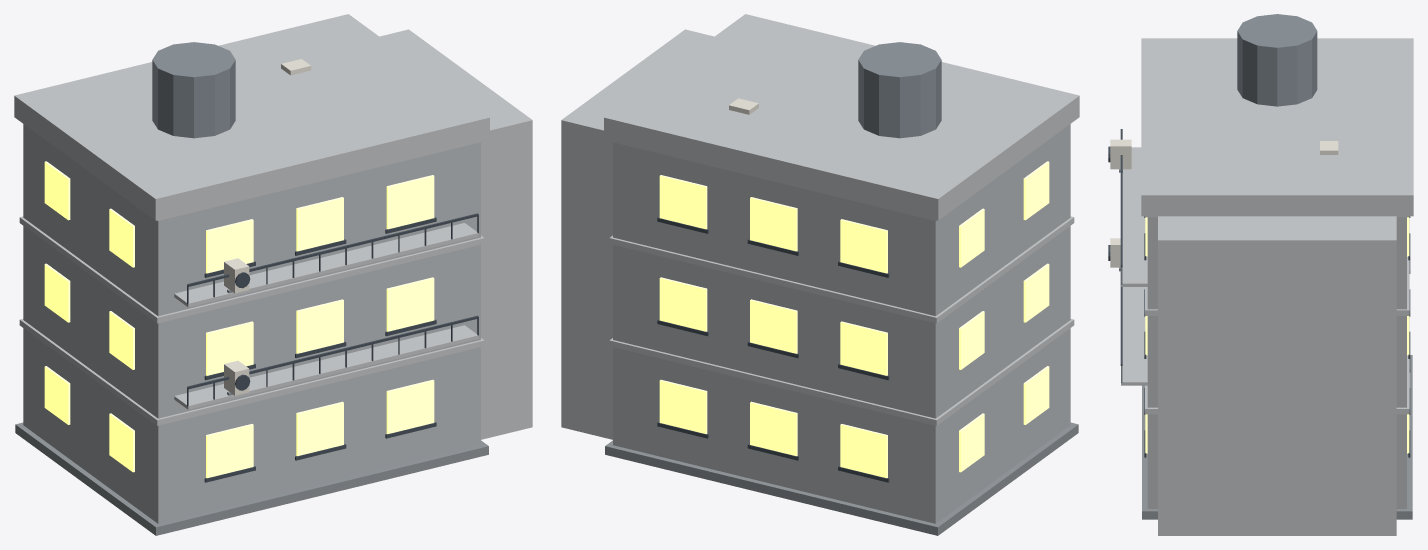
Rendered from res_danchi_3f.glb.
3 views of the same model, side by side, from view 1: azimuth 30°, elevation 25°; view 2: azimuth 150°, elevation 25°; view 3: azimuth 270°, elevation 25° (orthographic). The views are drawn at different scales.
Visible parts, largest first — view 1: body.048, roof_parapet.001, stair_core.001, water_tank.017, base.049, balcony.002, balcony.003, slab.004, slab.003, win.014, win.011, win.017 (+16 smaller); view 2: body.048, roof_parapet.001, stair_core.001, water_tank.017, base.049, slab.004, slab.003, win_back.076, win_back.073, win_back.079, win_back.078, win_back.072 (+10 smaller); view 3: stair_core.001, roof_parapet.001, water_tank.017, body.048, balcony.003, balcony.002, base.049, ac_body.060, slab.003, slab.004, rail.003.
Part boxes in pixels (<box>): body.048: <box>23,124,480,523</box>; roof_parapet.001: <box>14,14,489,220</box>; stair_core.001: <box>379,29,532,439</box>; water_tank.017: <box>152,42,235,138</box>; base.049: <box>15,422,488,535</box>; balcony.002: <box>174,325,478,409</box>; balcony.003: <box>174,223,478,307</box>; slab.004: <box>19,216,484,323</box>; slab.003: <box>19,319,484,425</box>; win.014: <box>386,277,434,331</box>; win.011: <box>386,379,434,433</box>; win.017: <box>386,175,434,229</box>; body.048: <box>613,124,1070,523</box>; roof_parapet.001: <box>604,14,1079,220</box>; stair_core.001: <box>561,29,714,439</box>; water_tank.017: <box>858,42,941,138</box>; base.049: <box>605,422,1078,535</box>; slab.004: <box>609,216,1074,323</box>; slab.003: <box>609,319,1074,425</box>; win_back.076: <box>659,277,707,331</box>; win_back.073: <box>659,379,707,433</box>; win_back.079: <box>659,175,707,229</box>; win_back.078: <box>750,197,797,251</box>; win_back.072: <box>750,401,797,456</box>; stair_core.001: <box>1158,216,1396,535</box>; roof_parapet.001: <box>1141,38,1413,216</box>; water_tank.017: <box>1237,14,1317,106</box>; body.048: <box>1147,217,1406,508</box>; balcony.003: <box>1121,147,1147,286</box>; balcony.002: <box>1121,287,1147,385</box>; base.049: <box>1142,355,1412,519</box>; ac_body.060: <box>1110,139,1131,169</box>; slab.003: <box>1145,317,1409,414</box>; slab.004: <box>1145,218,1409,315</box>; rail.003: <box>1120,129,1122,266</box>.
Bounding box in the file's own units: 11.24 × 11.09 × 8.
